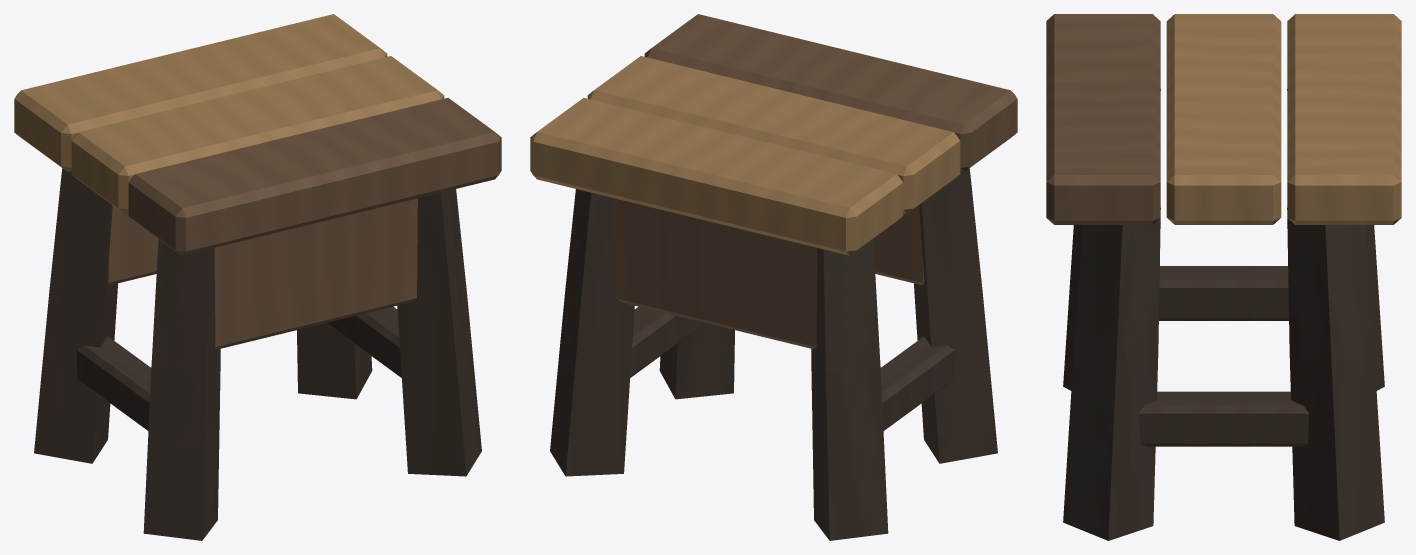
File: PR_Stool.glb
3 views of the same model, side by side, from view 1: azimuth 30°, elevation 25°; view 2: azimuth 150°, elevation 25°; view 3: azimuth 270°, elevation 25° (orthographic). The views are drawn at different scales.
Parts seen in each view (by area): view 1: PR_Stool; view 2: PR_Stool; view 3: PR_Stool.
Part boxes in pixels (x1=…): PR_Stool: x1=14, y1=14, x2=501, y2=540; PR_Stool: x1=530, y1=14, x2=1017, y2=540; PR_Stool: x1=1046, y1=14, x2=1401, y2=540.
Size of the model in its own units: 0.4098 by 0.4001 by 0.354.
3 materials, 3 textured.
